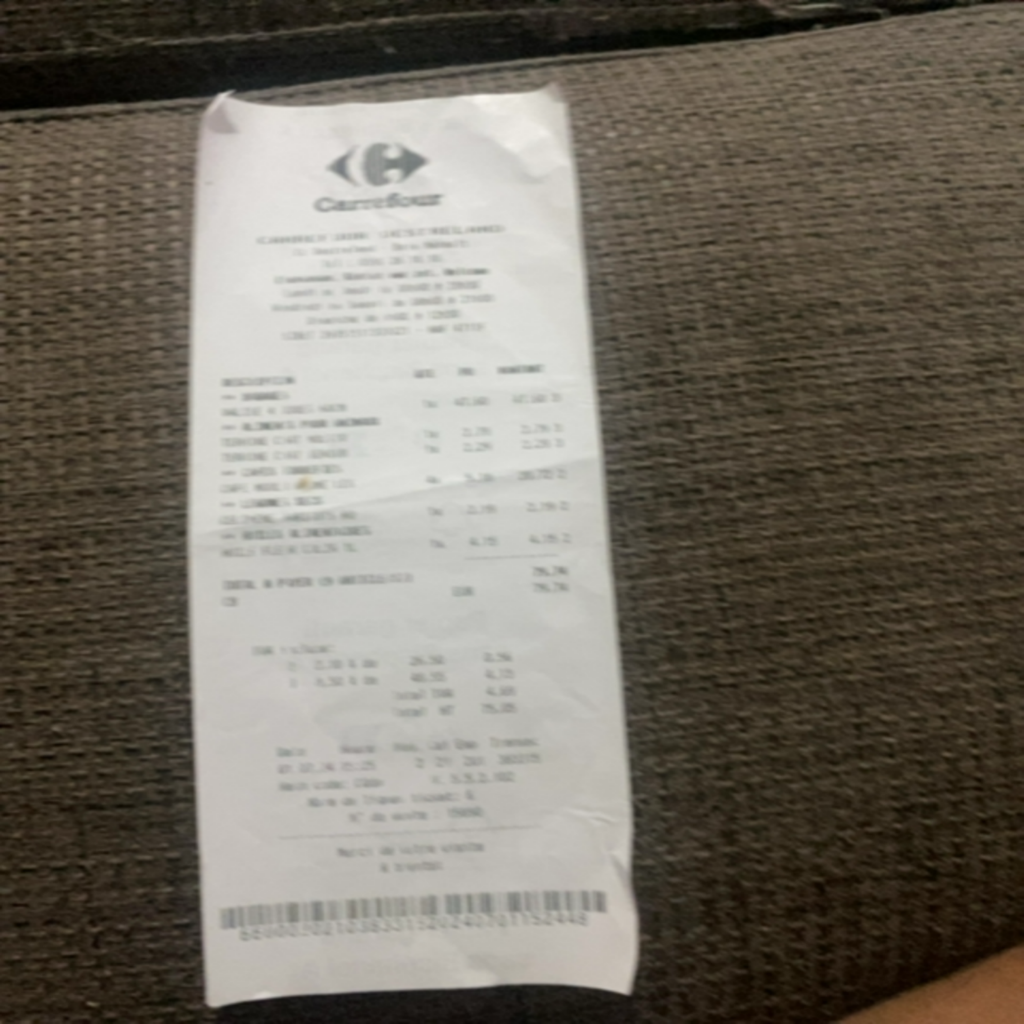recipt: (187, 80, 644, 1009)
